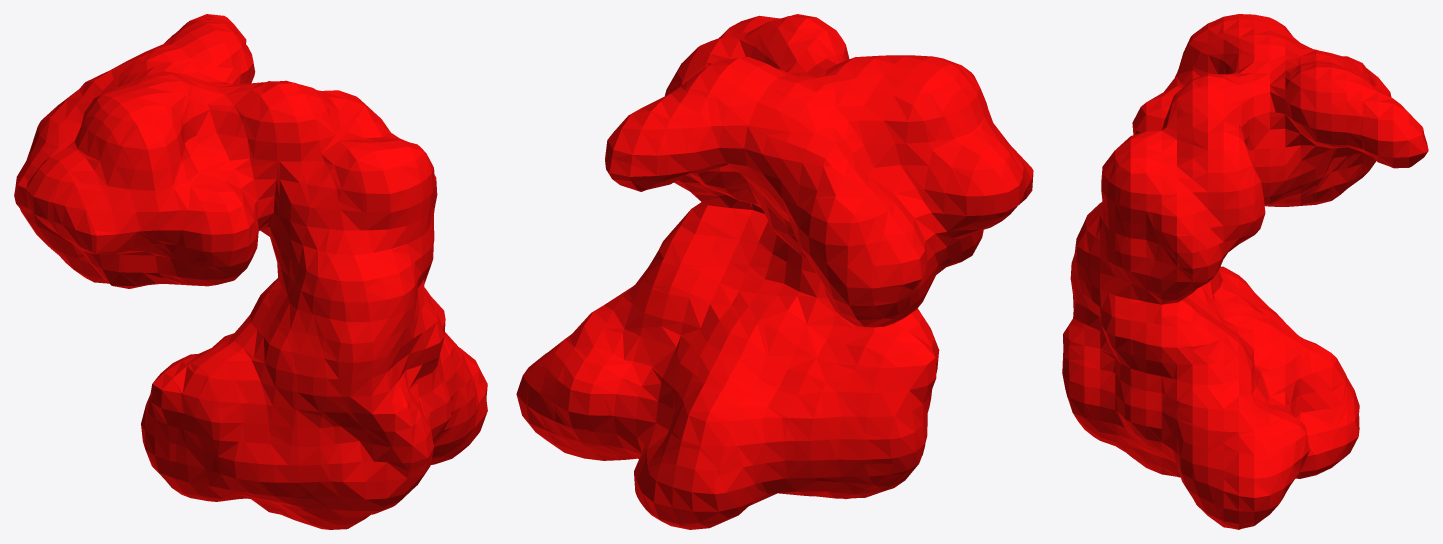
Rendered from zapE_coarse.dae.
3 views of the same model, side by side, from view 1: azimuth 30°, elevation 25°; view 2: azimuth 150°, elevation 25°; view 3: azimuth 270°, elevation 25° (orthographic). The views are drawn at different scales.
Parts seen in each view (by area): view 1: zapE; view 2: zapE; view 3: zapE.
Boxes of the visible parts, x1=… form: zapE: x1=14, y1=14, x2=487, y2=529; zapE: x1=516, y1=14, x2=1033, y2=529; zapE: x1=1062, y1=14, x2=1428, y2=529.
Size of the model in its own units: 75.07 by 70.85 by 60.29.
